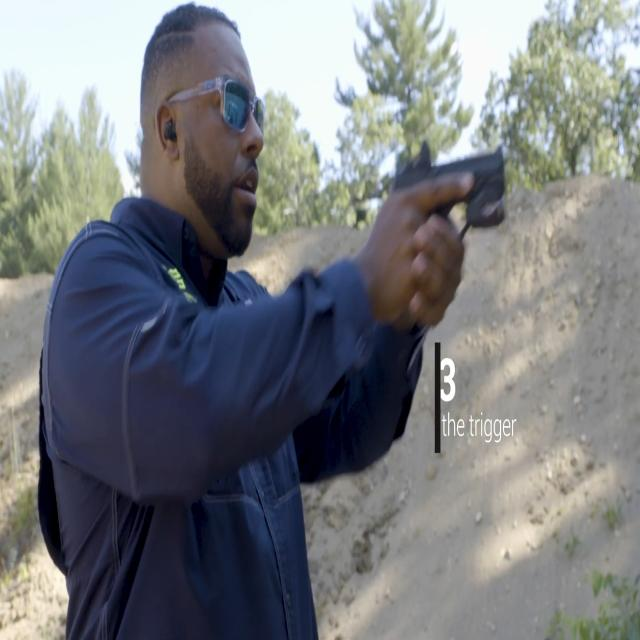Gun_Holder: (388, 93, 530, 305)
Person: (39, 2, 433, 640)
